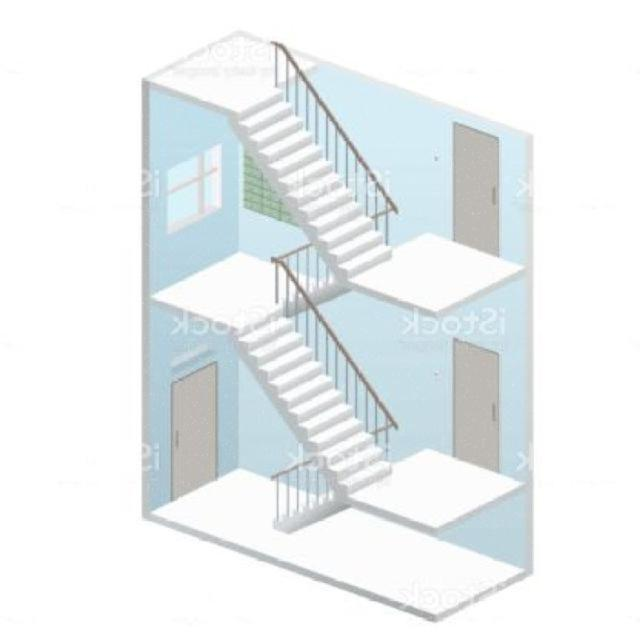stair: (213, 56, 418, 264), (214, 268, 420, 443), (255, 446, 412, 539)
